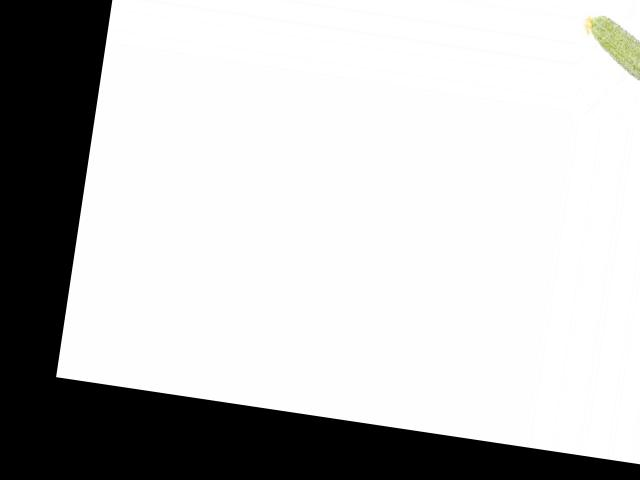cucumber: (572, 12, 640, 107)
